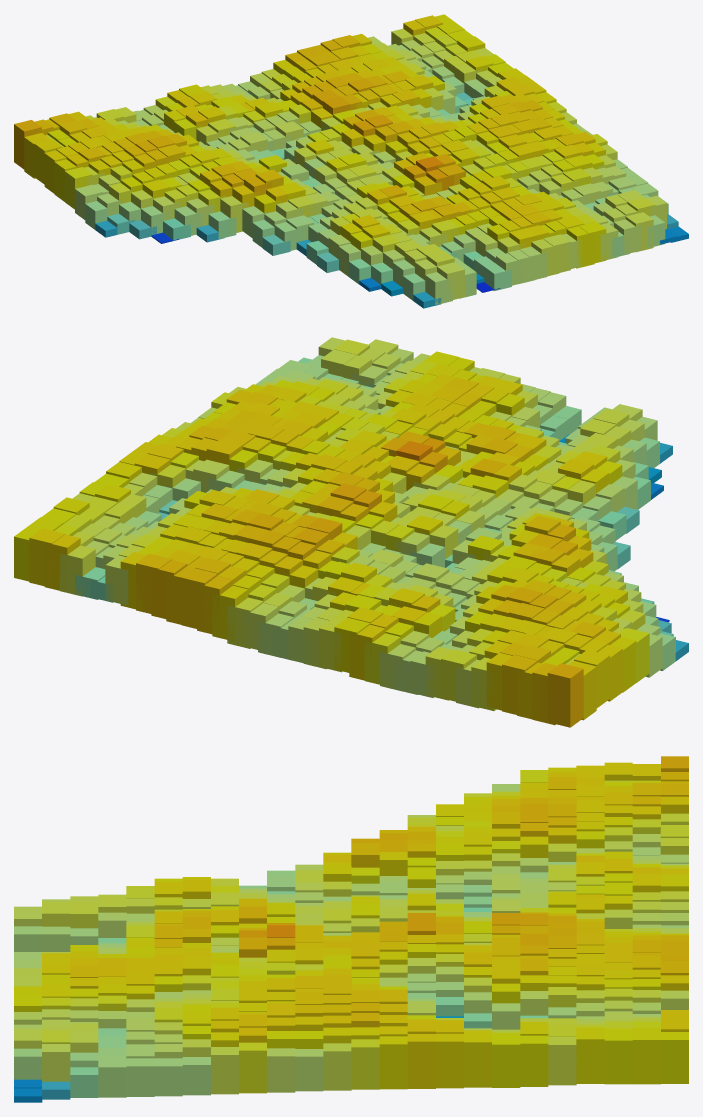
File: population.glb
3 renders of one model, top to bottom at view 1: azimuth 30°, elevation 25°; view 2: azimuth 150°, elevation 25°; view 3: azimuth 270°, elevation 25°, orthographic. The views are drawn at different scales.
Visible parts, largest first — view 1: population; view 2: population; view 3: population.
Boxes of the visible parts, left/top/right/bottom form: population: left=14, top=14, right=688, bottom=308; population: left=14, top=337, right=688, bottom=727; population: left=14, top=756, right=688, bottom=1102.
Bounding box in the file's own units: 2438 × 305 × 2397.
